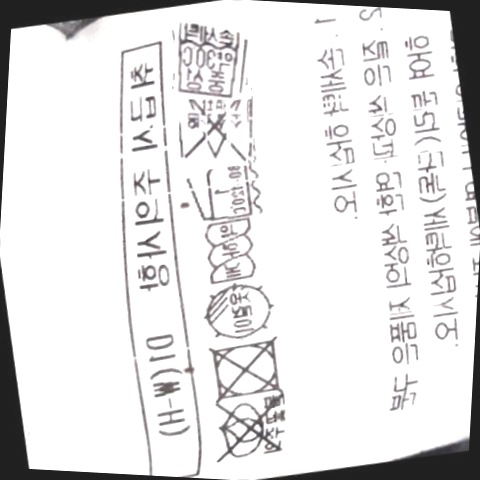DN_tumble_dry: (202, 332, 293, 404)
hand_wash: (167, 21, 252, 99)
iron_low: (187, 159, 260, 226)
line_dry_in_shade: (196, 279, 281, 343)
wring: (200, 216, 262, 288)
